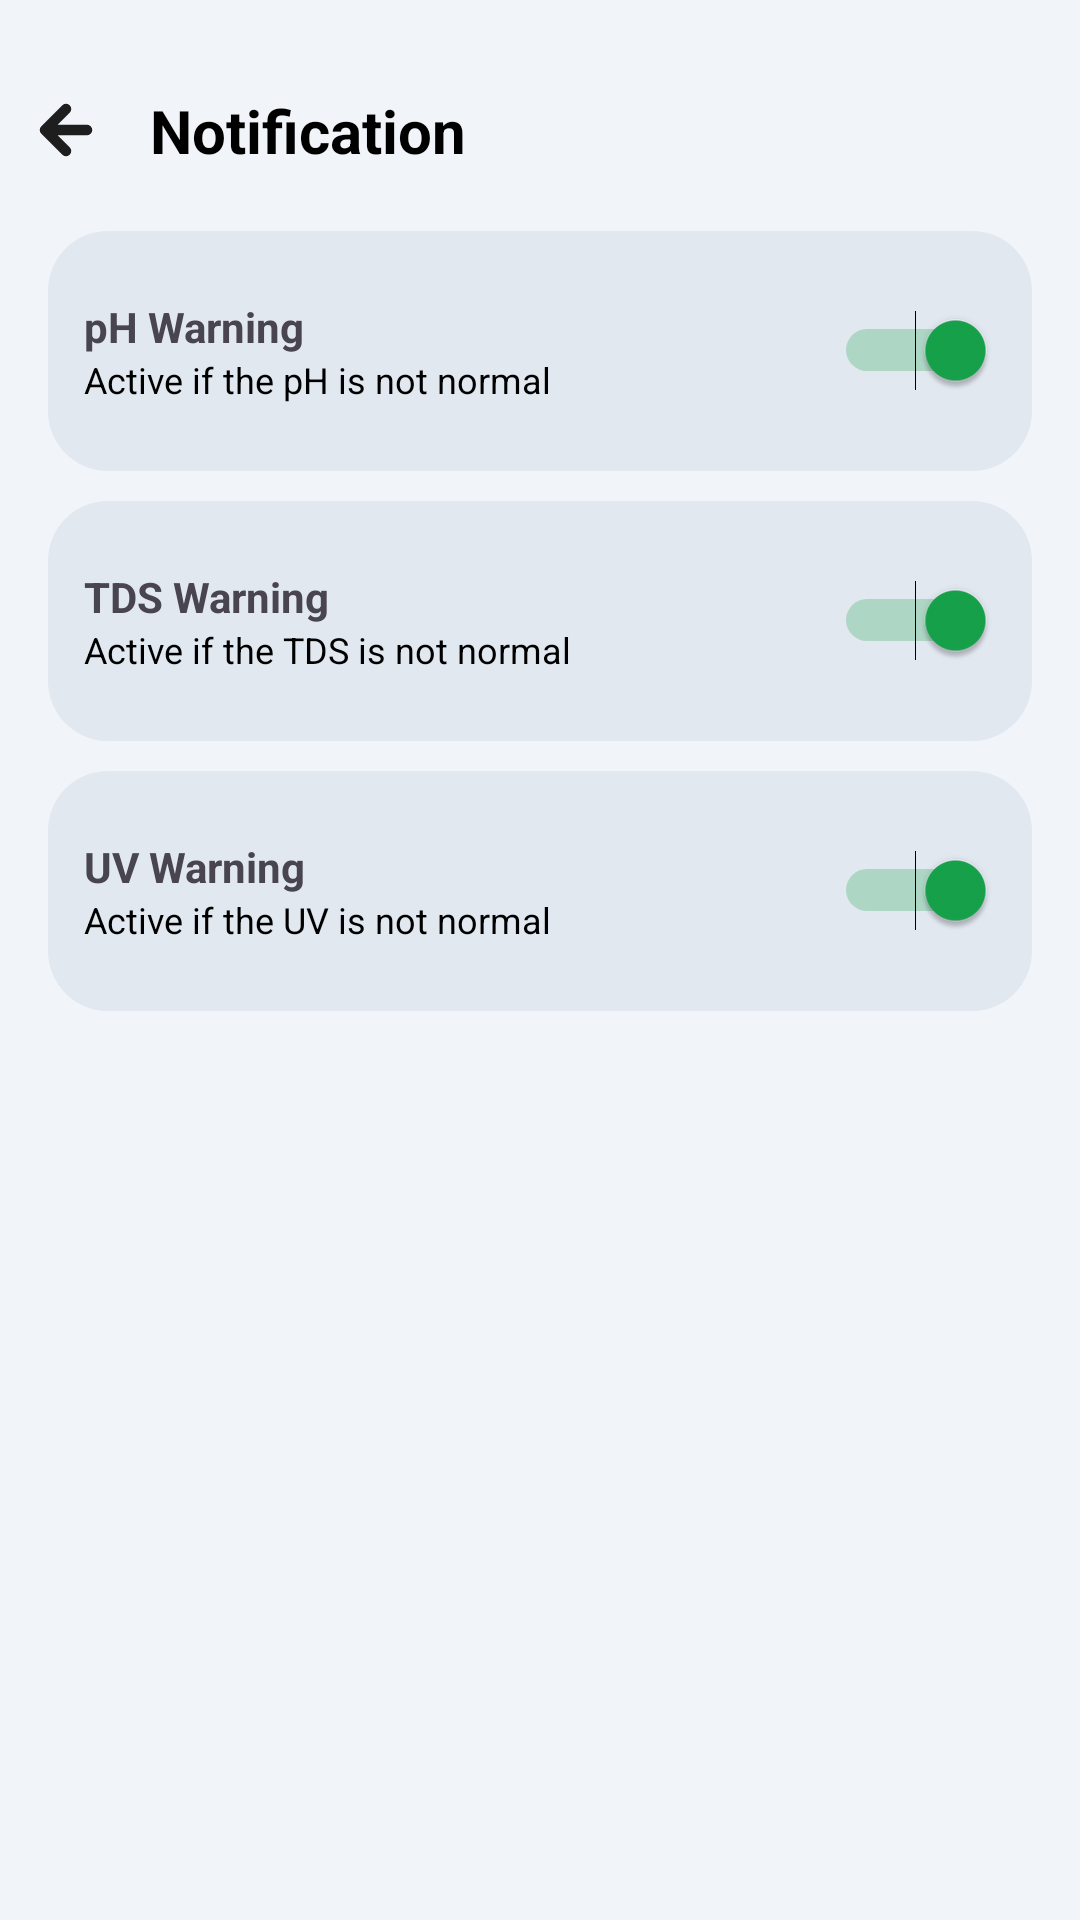

Icons on this 1080*1920 Android screen, each with the point to tap as (x=x, y=y):
arrow: (x=66, y=130)
